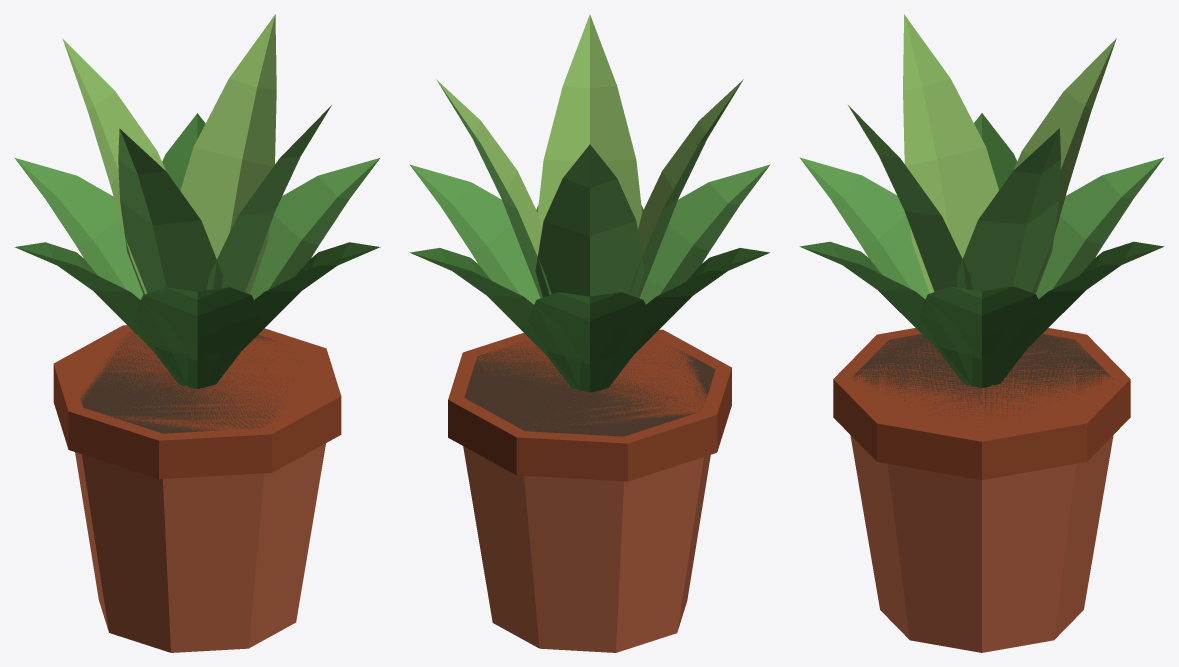
File: plant_pot.glb
3 views of the same model, side by side, from view 1: azimuth 30°, elevation 25°; view 2: azimuth 150°, elevation 25°; view 3: azimuth 270°, elevation 25° (orthographic).
Parts seen in each view (by area): view 1: plant_pot; view 2: plant_pot; view 3: plant_pot.
Part boxes in pixels (x1,y1,x2,y2): plant_pot: (14,14,380,652); plant_pot: (409,14,770,652); plant_pot: (799,14,1164,652).
Bounding box in the file's own units: 0.497 × 0.7003 × 0.4304.
1 material, 1 textured.
